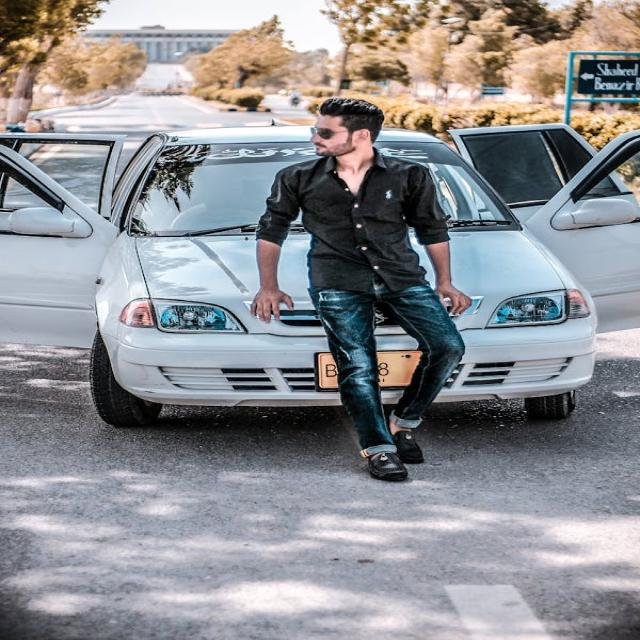Real human 2: (239, 90, 495, 498)
